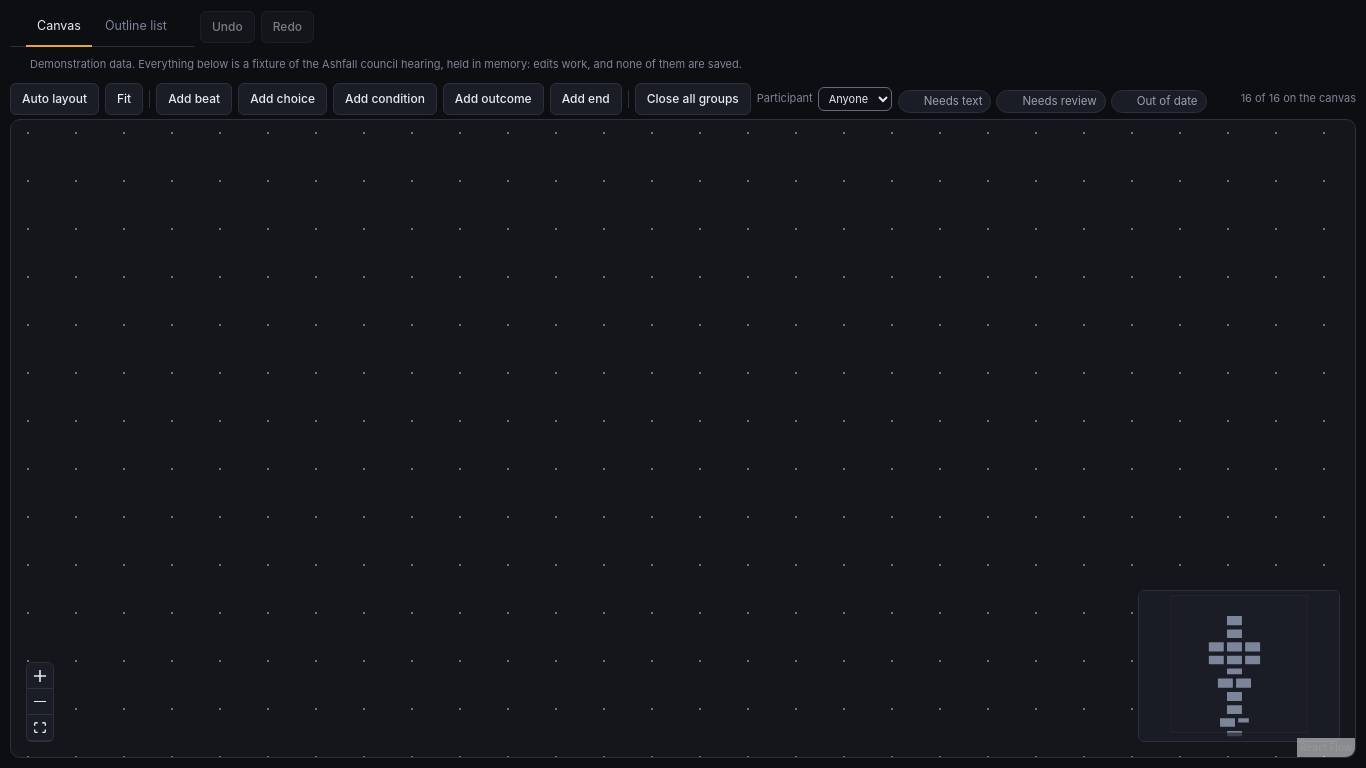
Test: the outline list, as a full alternative to the canvas › marks an element the start cannot reach
Click the button "Outline list".
click(136, 27)  # box left=94, top=8, right=178, bottom=47
(page scrolled)
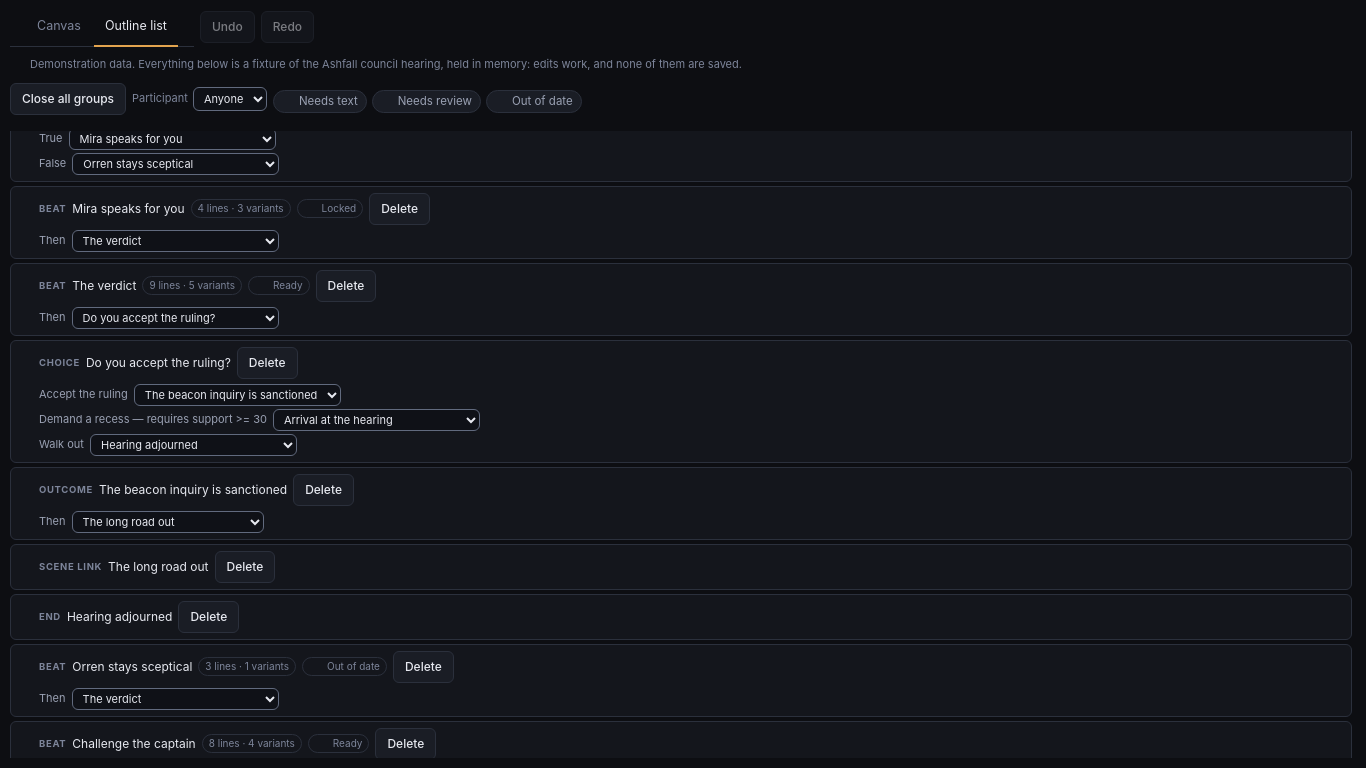
Select "Nothing yet" in the dropdown named "Do you accept the ruling? — Walk out leads to" at (194, 445), box left=90, top=434, right=297, bottom=456
(page scrolled)
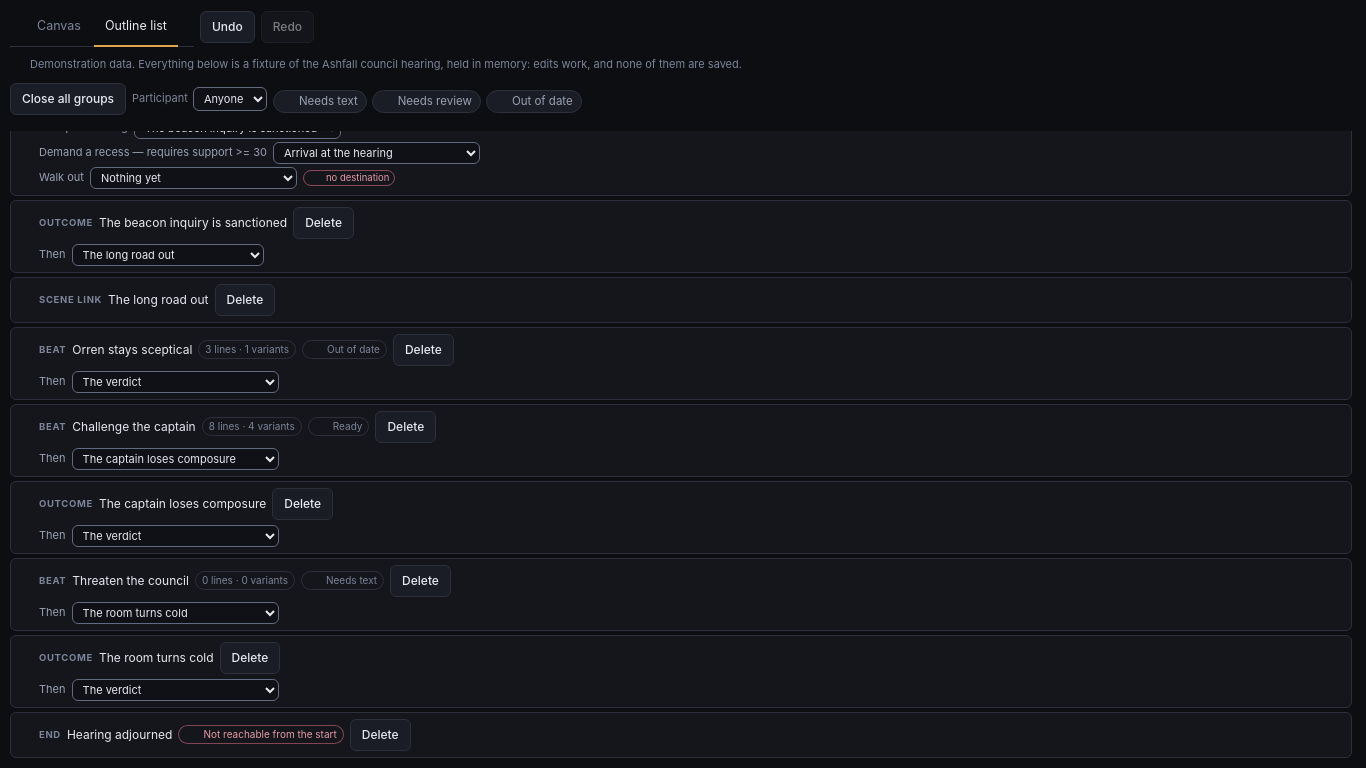
Result: the text "Not reachable from the start" is shown at left=178, top=725, right=344, bottom=744
